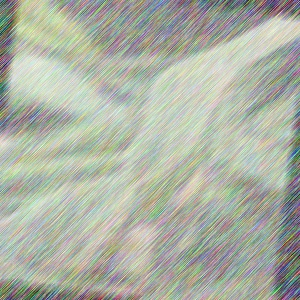Brown_Spot: (110, 207, 169, 280), (163, 157, 204, 208)
